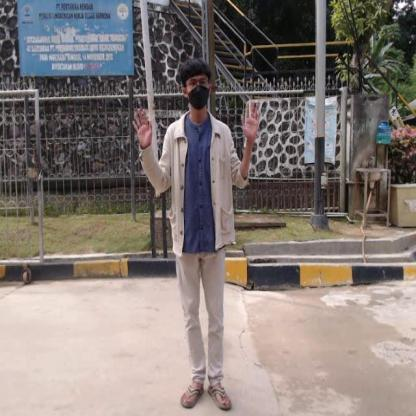mask: (187, 84, 211, 110)
